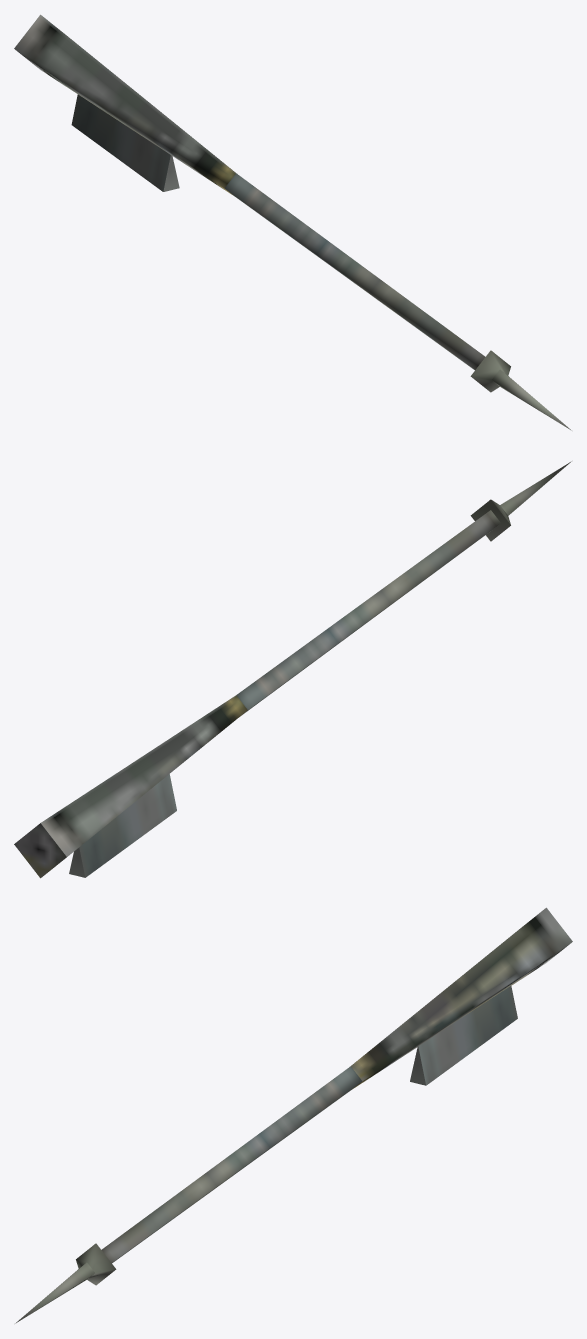
File: xwing_weapon_neg_s01_l2.fbx
3 views of the same model, one above another, from view 1: azimuth 30°, elevation 25°; view 2: azimuth 150°, elevation 25°; view 3: azimuth 330°, elevation 25° (orthographic).
Visible parts, largest first — view 1: mesh_node; view 2: mesh_node; view 3: mesh_node.
Boxes of the visible parts, <box> form: mesh_node: <box>14,14,571,430</box>; mesh_node: <box>14,461,571,878</box>; mesh_node: <box>15,907,572,1323</box>.
Size of the model in its own units: 0.5129 by 0.749 by 8.92.
Materials: 1 (1 with a texture image).
